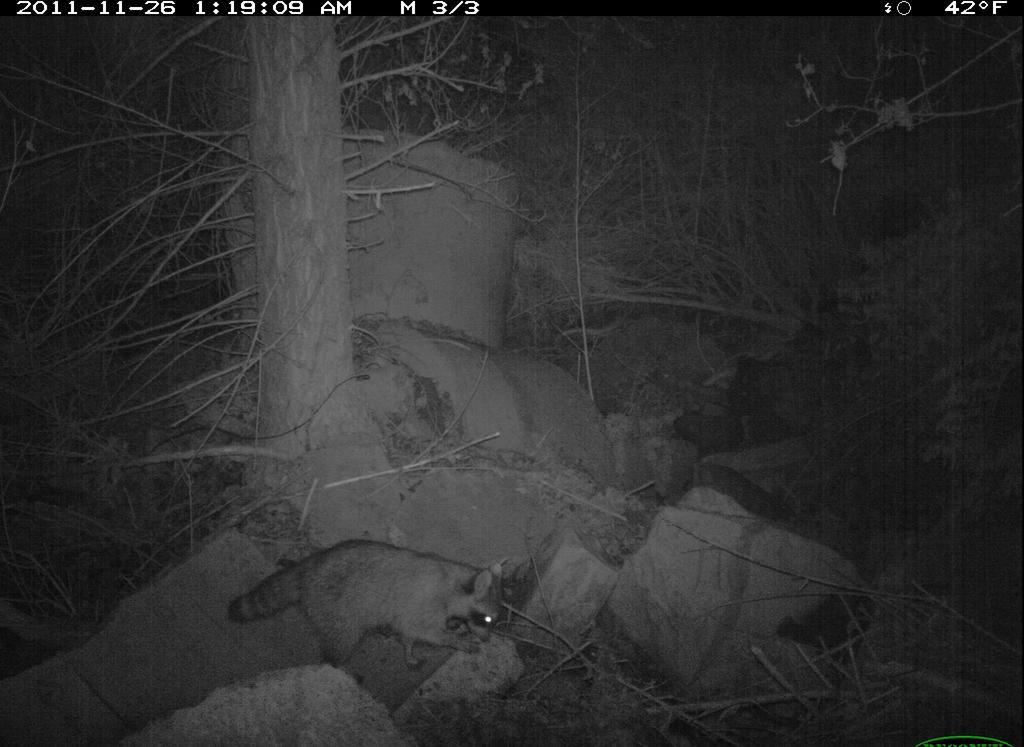raccoon: (225, 533, 535, 690)
